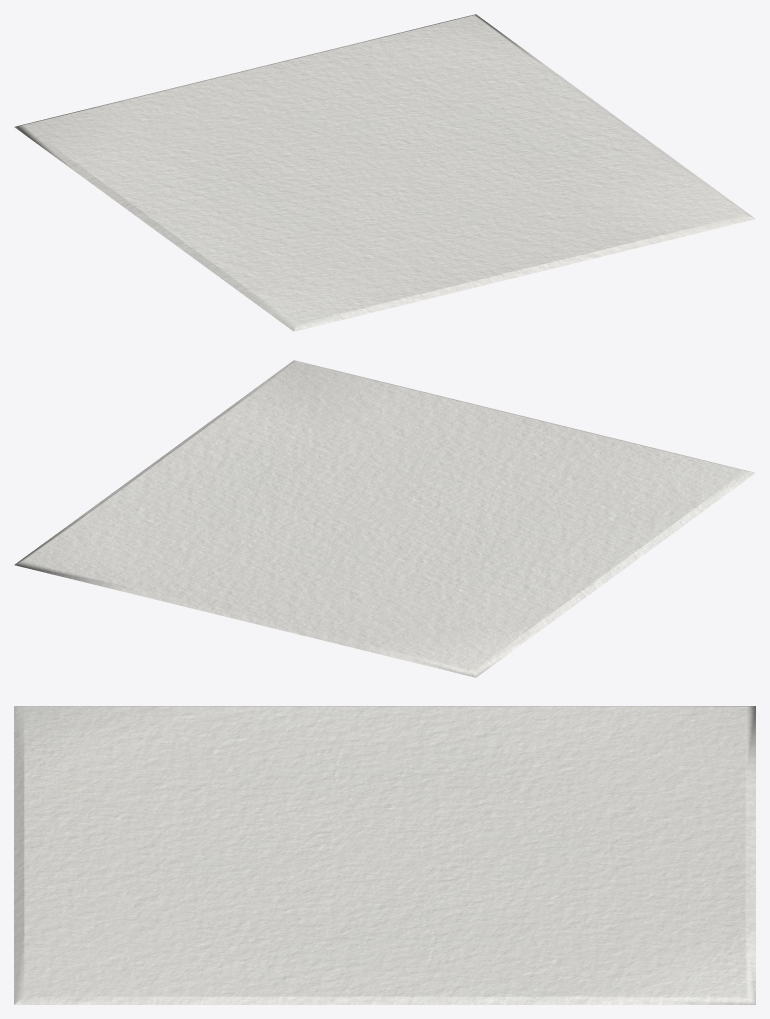
The model's file is twosides1.fbx.
The picture shows the model from 3 angles, top to bottom: view 1: azimuth 30°, elevation 25°; view 2: azimuth 150°, elevation 25°; view 3: azimuth 270°, elevation 25°; orthographic projection. The views are drawn at different scales.
Visible parts, largest first — view 1: twosides1; view 2: twosides1; view 3: twosides1.
Boxes of the visible parts, left/top/right/bottom form: twosides1: left=14, top=14, right=755, bottom=331; twosides1: left=14, top=360, right=755, bottom=677; twosides1: left=14, top=706, right=755, bottom=1004.
Bounding box in the file's own units: 94.11 × 1.16 × 98.79.
